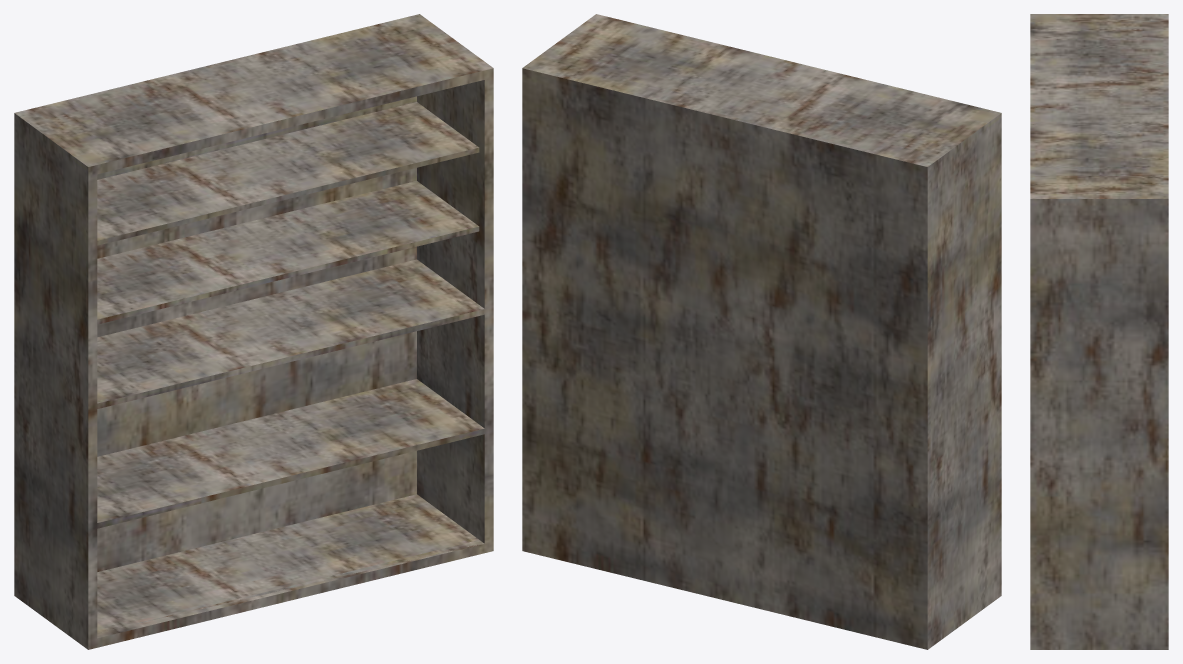
File: Bookshelf_Painted_wood_0.fbx
3 views of the same model, side by side, from view 1: azimuth 30°, elevation 25°; view 2: azimuth 150°, elevation 25°; view 3: azimuth 270°, elevation 25° (orthographic). The views are drawn at different scales.
Parts seen in each view (by area): view 1: Bookshelf_Painted_wood_0; view 2: Bookshelf_Painted_wood_0; view 3: Bookshelf_Painted_wood_0.
Part boxes in pixels (x1,y1,x2,y2): Bookshelf_Painted_wood_0: [14, 14, 493, 649]; Bookshelf_Painted_wood_0: [522, 14, 1001, 649]; Bookshelf_Painted_wood_0: [1030, 14, 1168, 649].
Bounding box in the file's own units: 176 × 200 × 55.61.
Materials: 1 (1 with a texture image).
